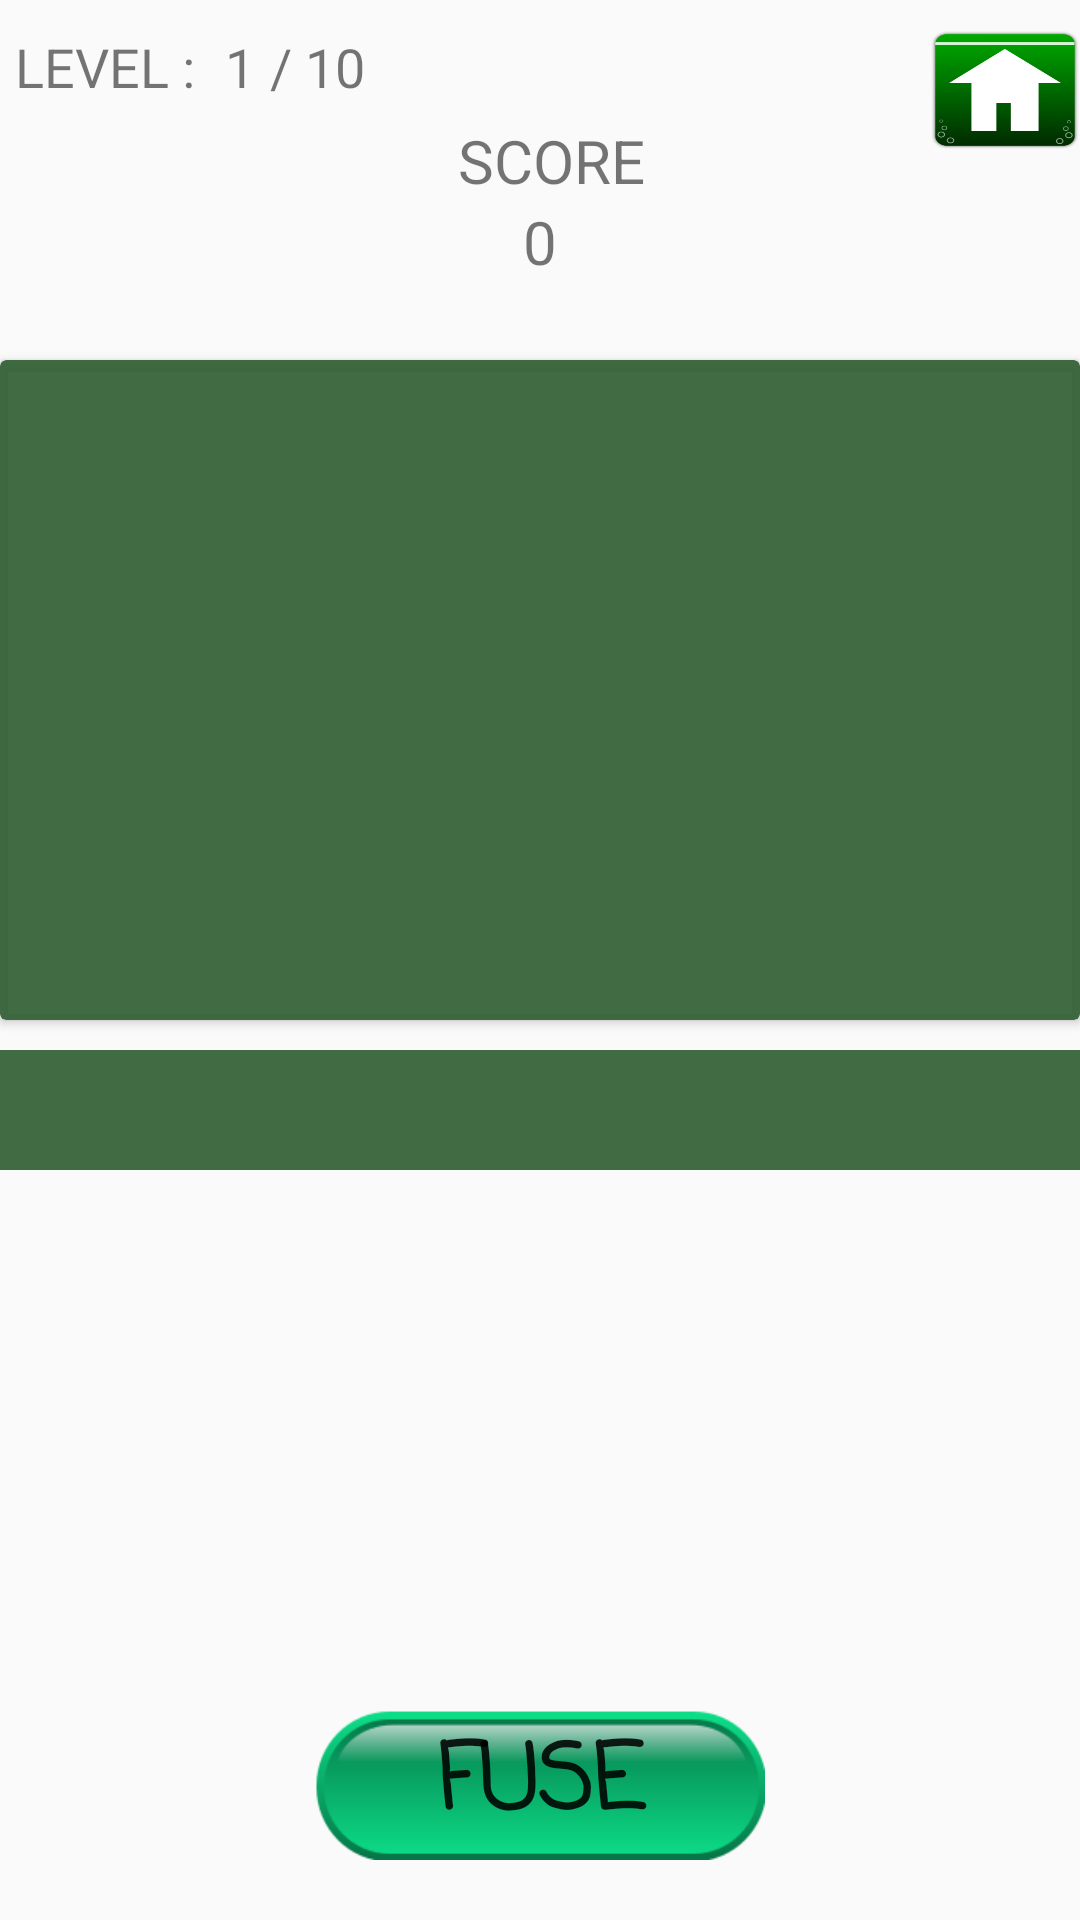

Named icons in this screenshot (1080px×1920px) and their centers, point (x, y):
home: point (1005, 90)
